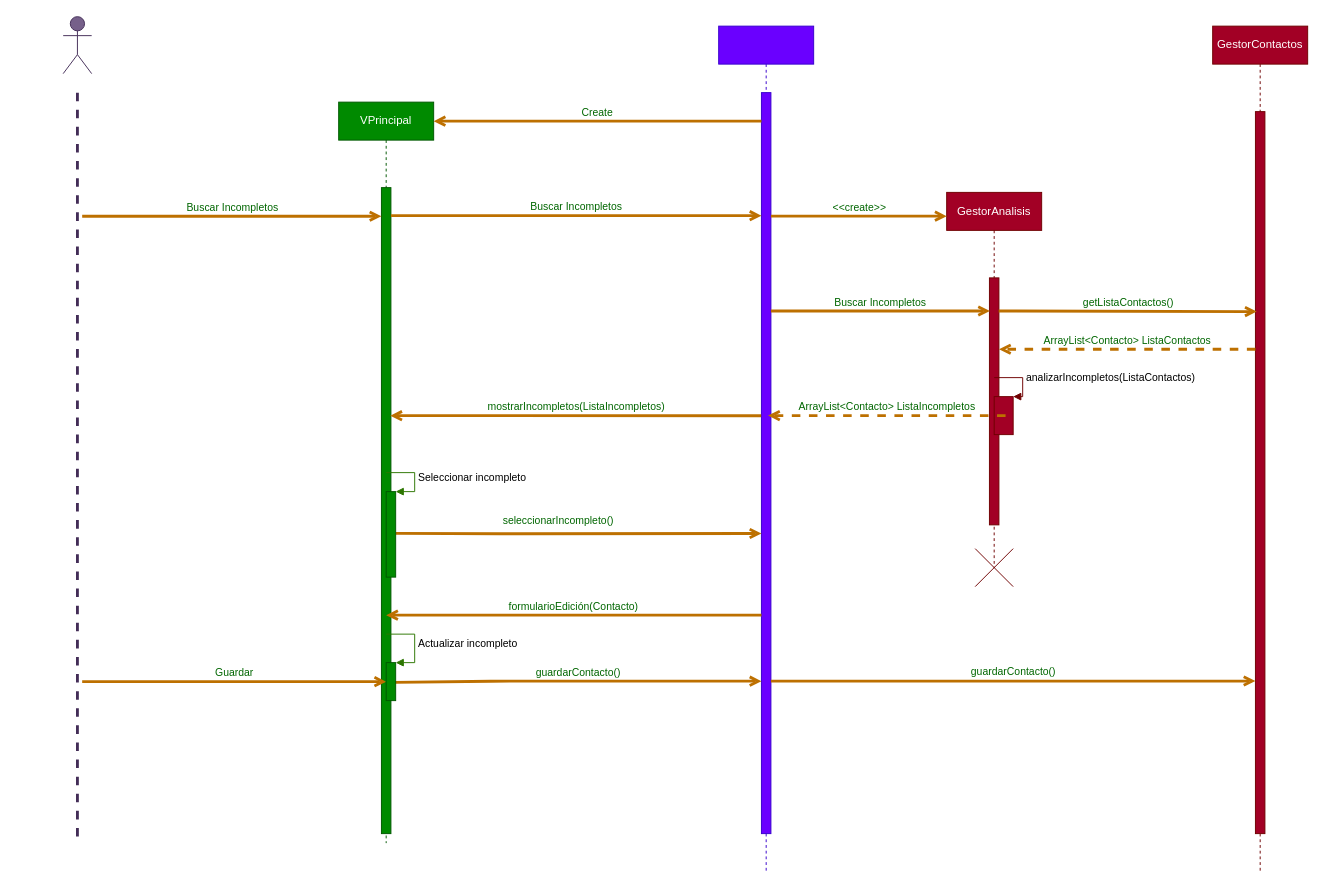
This 1324x888 diagram has some shape labels left out. The shapes that lost their labels are listed below. From the top down, each one's box as (x1, y1, x2, y2) in pixels, then its label:
(62, 16, 92, 74): Propietario de contactos
(718, 25, 814, 872): ControlGUI
